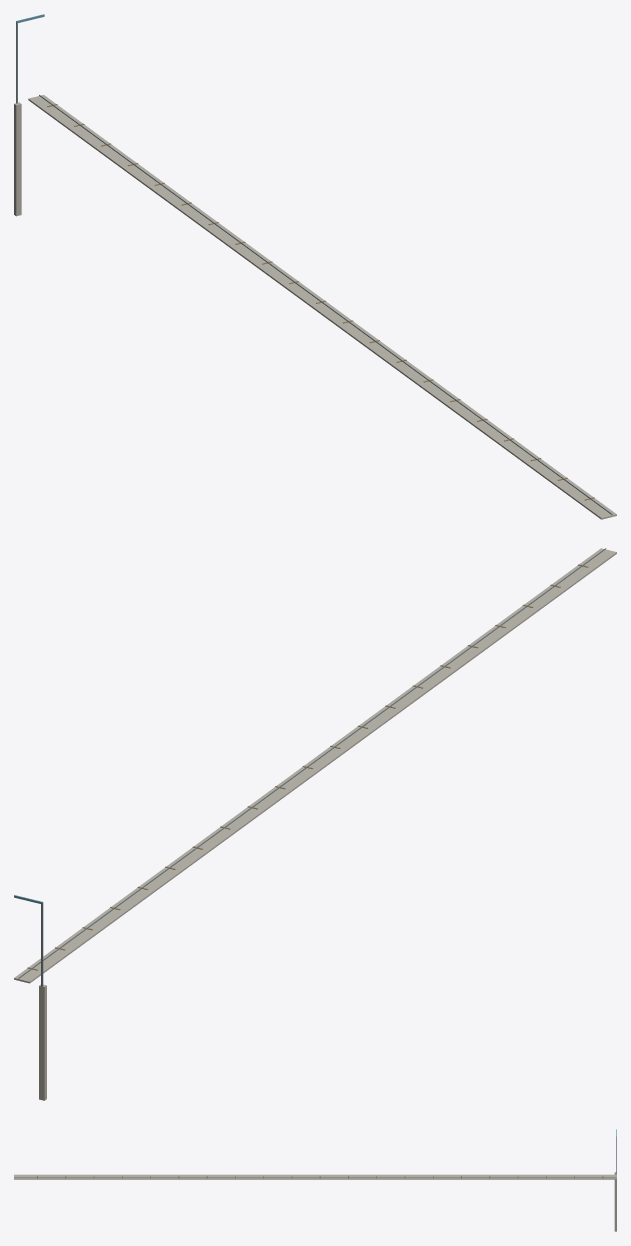
Rendered from valley-7-9.glb.
3 views of the same model, one above another, from view 1: azimuth 30°, elevation 25°; view 2: azimuth 150°, elevation 25°; view 3: azimuth 270°, elevation 25° (orthographic). The views are drawn at different scales.
Visible parts, largest first — view 1: valley-7-9; view 2: valley-7-9; view 3: valley-7-9.
Boxes of the visible parts, bbox=[...] form: valley-7-9: bbox=[14, 14, 616, 519]; valley-7-9: bbox=[14, 548, 616, 1100]; valley-7-9: bbox=[14, 1129, 616, 1231].
Size of the model in its own units: 7.7 by 47.61 by 256.
